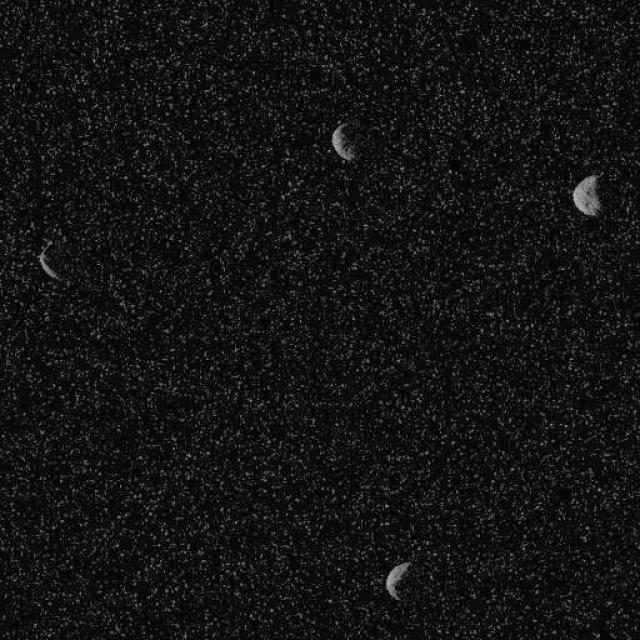D2: (571, 174, 601, 216), (330, 120, 358, 161), (384, 560, 410, 601), (36, 240, 62, 281)
